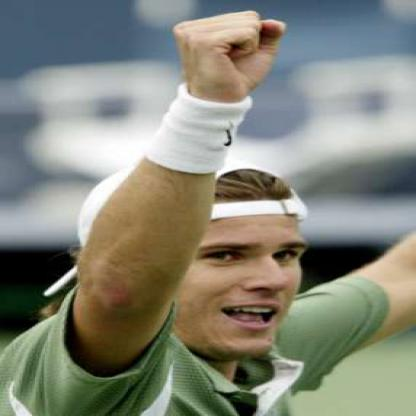face: (131, 164, 320, 361)
